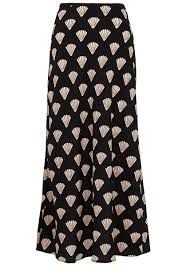C_skirt: (35, 2, 156, 266)
